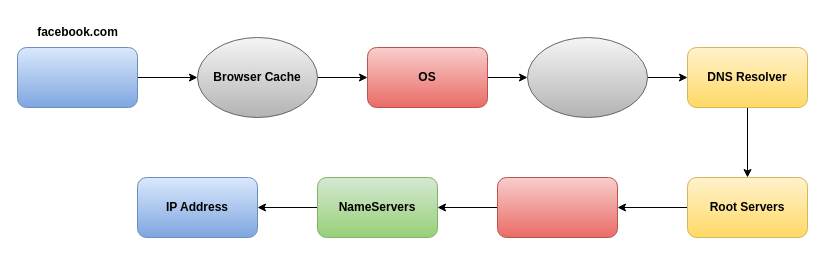
This 825x255 diagram has some shape labels left out. Here are the shapes that lost their labels. From the top down, the centre of each, then its label:
At pixel 77 77: "Browser".
At pixel 587 77: "OS Cache".
At pixel 557 207: "TLD info".
